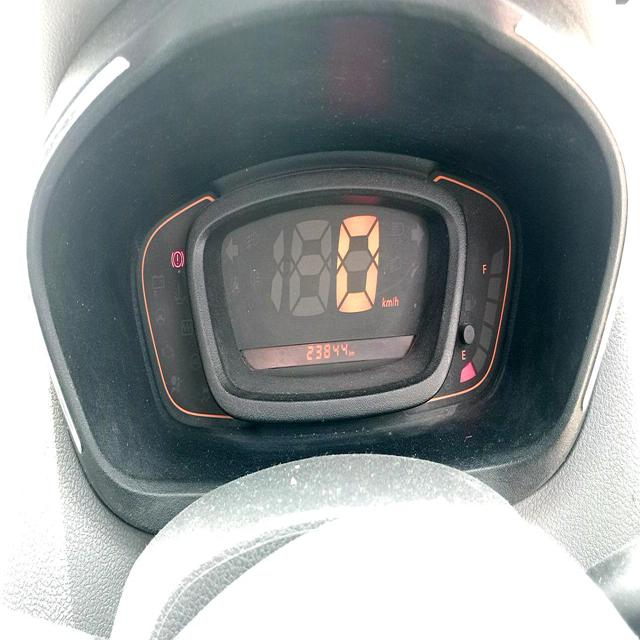odometer: (306, 341, 348, 362)
